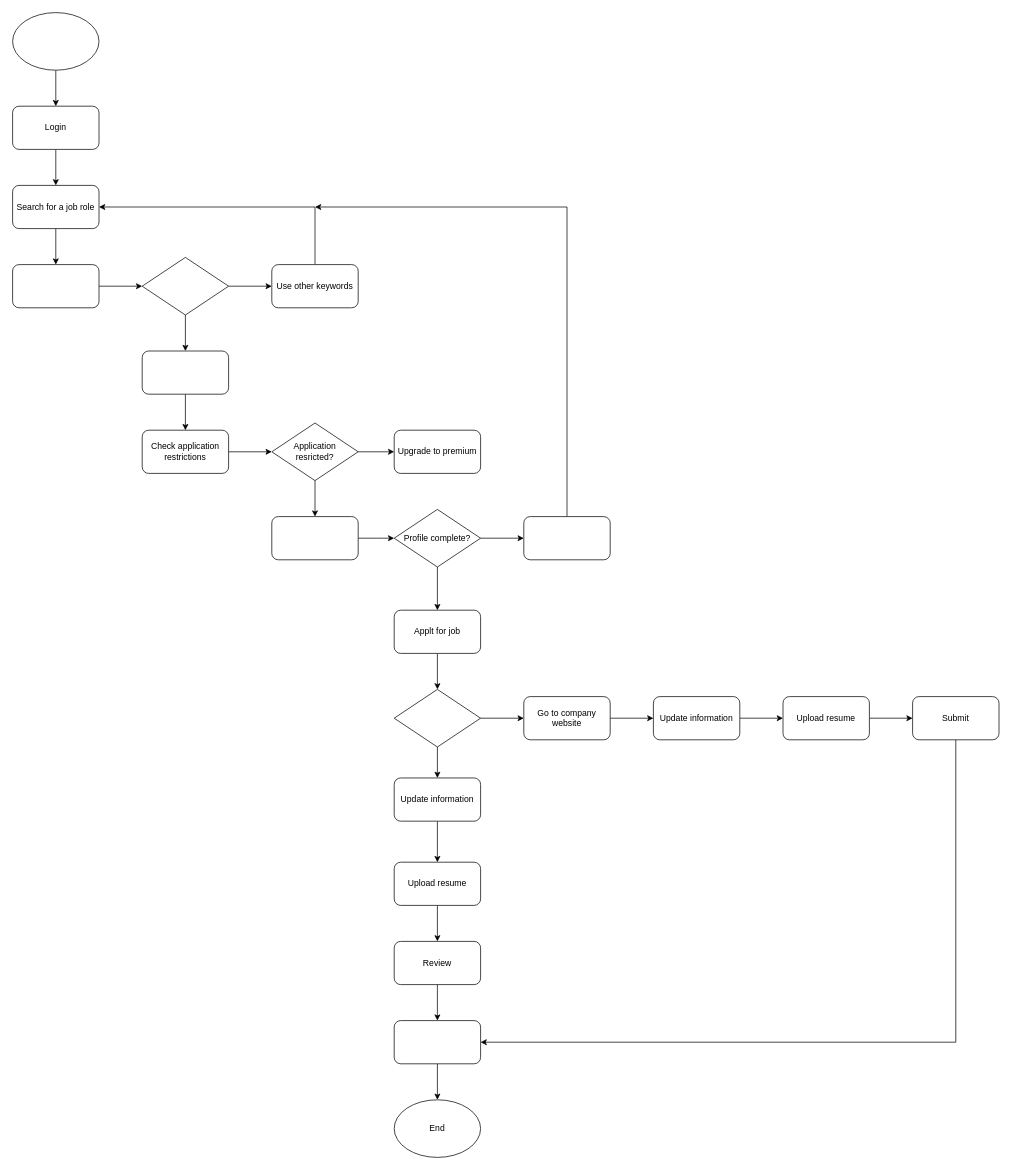
Image size: 1012x1170. Some labels were removed from this diagram. Each missing label, with the box of its shape:
Application submitted: (393, 1020, 481, 1064)
Check profile completeness: (271, 516, 358, 560)
Check search results: (12, 264, 99, 308)
Easy Apply?: (393, 689, 481, 747)
Fill missing information: (523, 516, 610, 560)
Matches job criteria?: (141, 257, 229, 315)
Start: (12, 12, 99, 70)
View job details: (141, 350, 229, 394)
